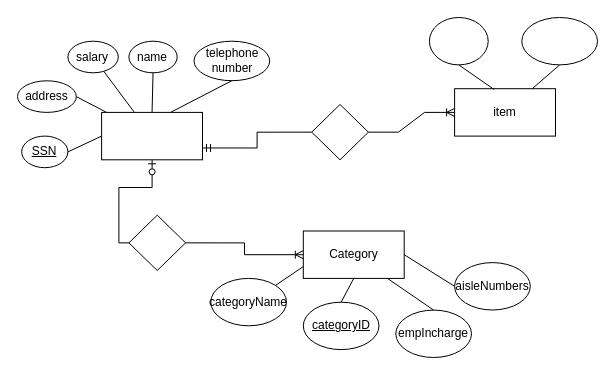
The diagram is 615 pixels wide and 375 high, and some of its shapes have lost their labels. The centre of each missing label's shape, as x and y in pixels:
"Employee" goes at point (151, 135).
"itemID" goes at point (458, 40).
"itemName" goes at point (559, 40).
"manage" goes at point (157, 242).
"take care" goes at point (339, 132).
